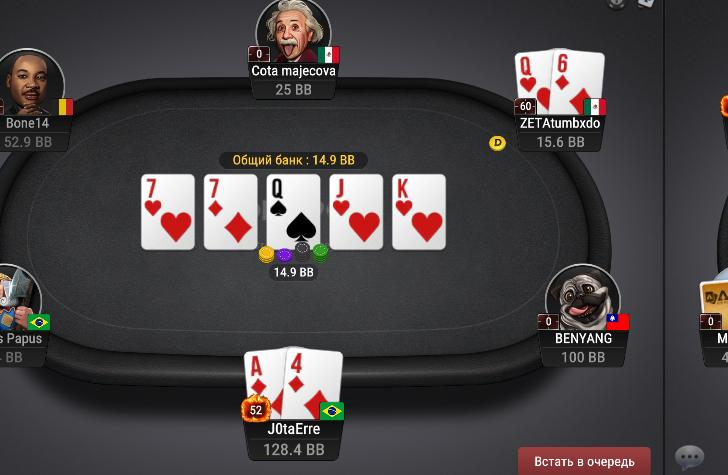4d: (286, 348, 343, 419)
6d: (553, 47, 604, 115)
7d: (204, 175, 257, 249)
7h: (141, 174, 194, 251)
Ad: (243, 351, 285, 419)
Jh: (331, 175, 385, 248)
Kh: (392, 174, 447, 250)
Qh: (515, 51, 551, 115)
Qs: (267, 175, 321, 250)
